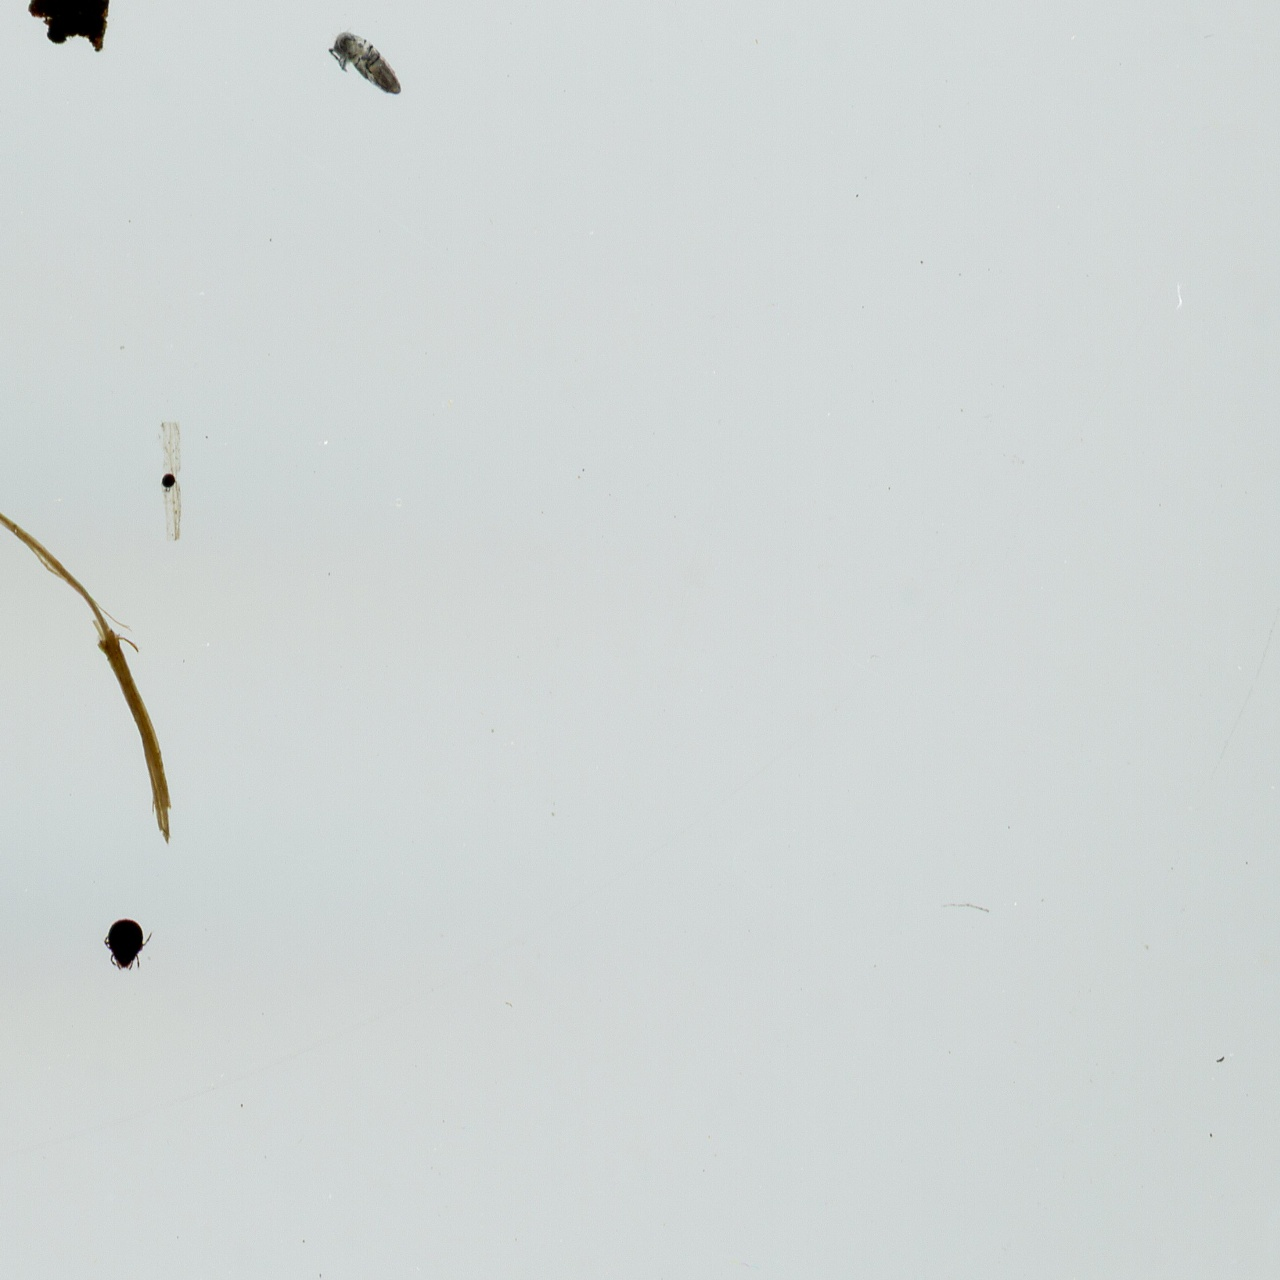arthropod: (309, 7, 422, 121), (101, 913, 158, 973)
